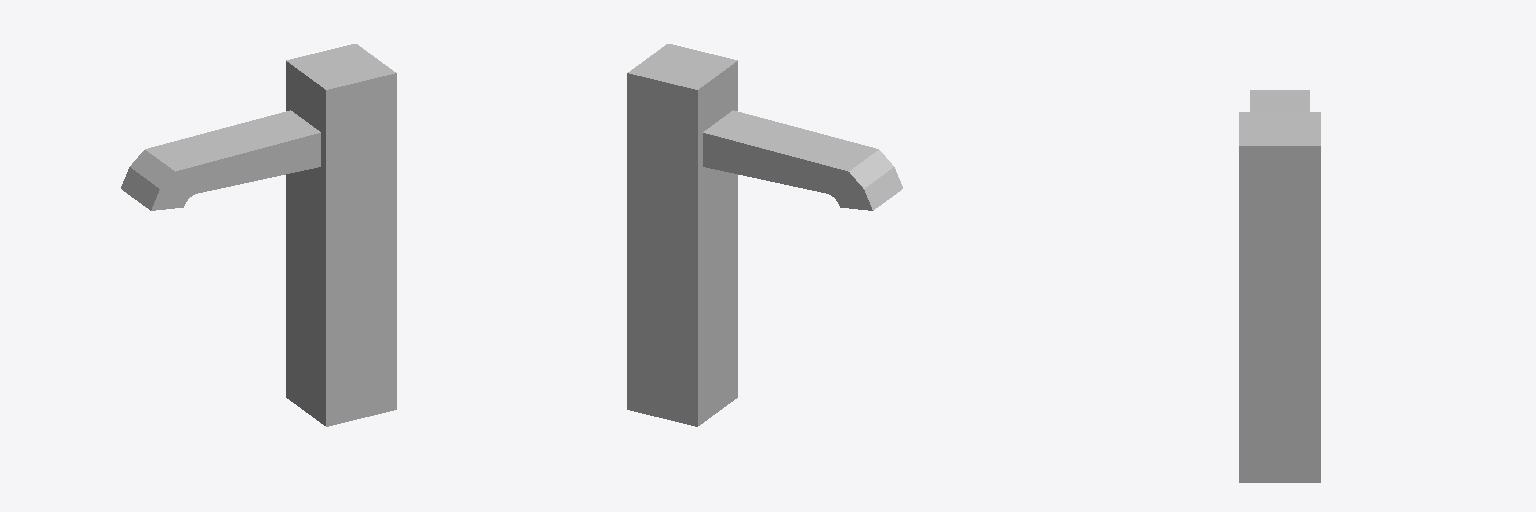
Rendered from faucet.obj.
3 renders of one model, left to right at view 1: azimuth 30°, elevation 25°; view 2: azimuth 150°, elevation 25°; view 3: azimuth 270°, elevation 25°, orthographic.
Parts seen in each view (by area): view 1: Cube; view 2: Cube; view 3: Cube.
Part boxes in pixels (left/top/right/bottom): Cube: left=121, top=44, right=396, bottom=426; Cube: left=627, top=44, right=902, bottom=426; Cube: left=1239, top=90, right=1320, bottom=482.
Size of the model in its own units: 0.6514 by 0.8716 by 0.1901.